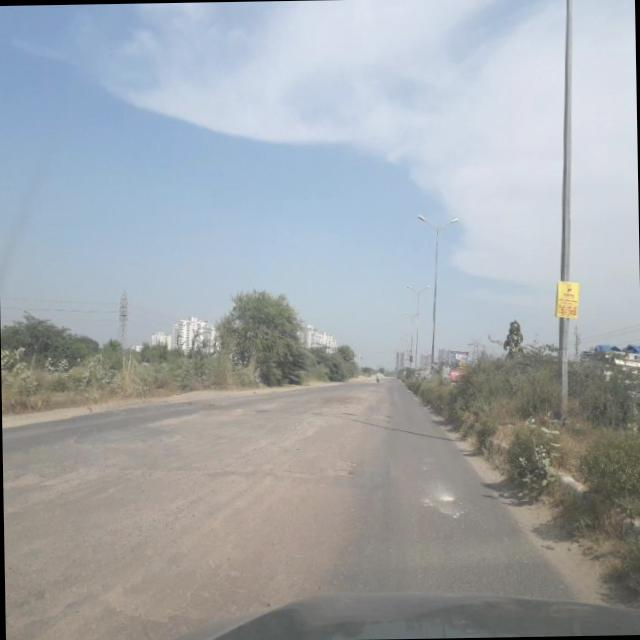crack: (104, 446, 362, 491)
pothole: (152, 390, 356, 446), (96, 554, 207, 622), (5, 567, 94, 637), (2, 454, 86, 502), (288, 456, 357, 484), (363, 400, 393, 426)
